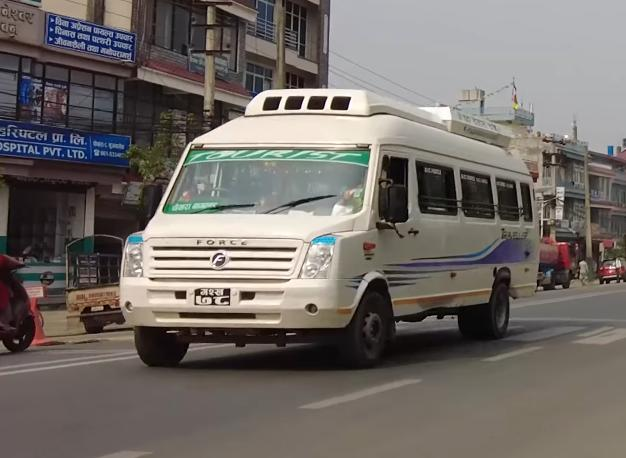micro_bus: (113, 79, 545, 368)
